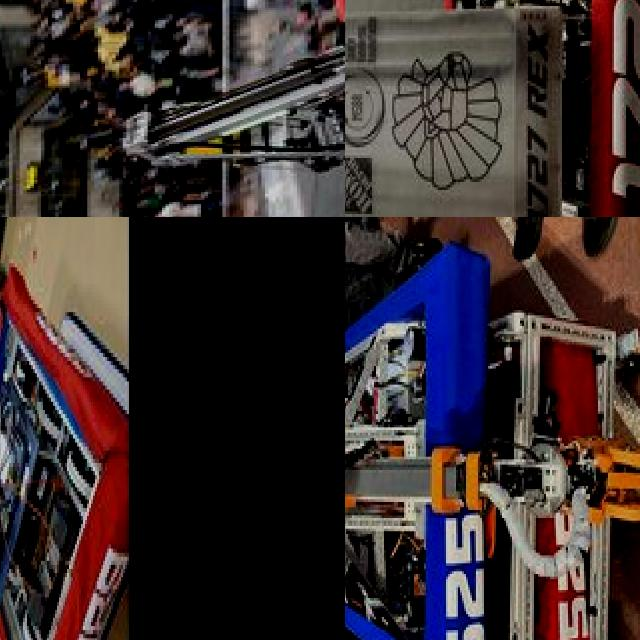FRC-Robots: (345, 217, 524, 640), (345, 0, 640, 217), (81, 0, 345, 203), (0, 287, 135, 640), (107, 0, 345, 50)
